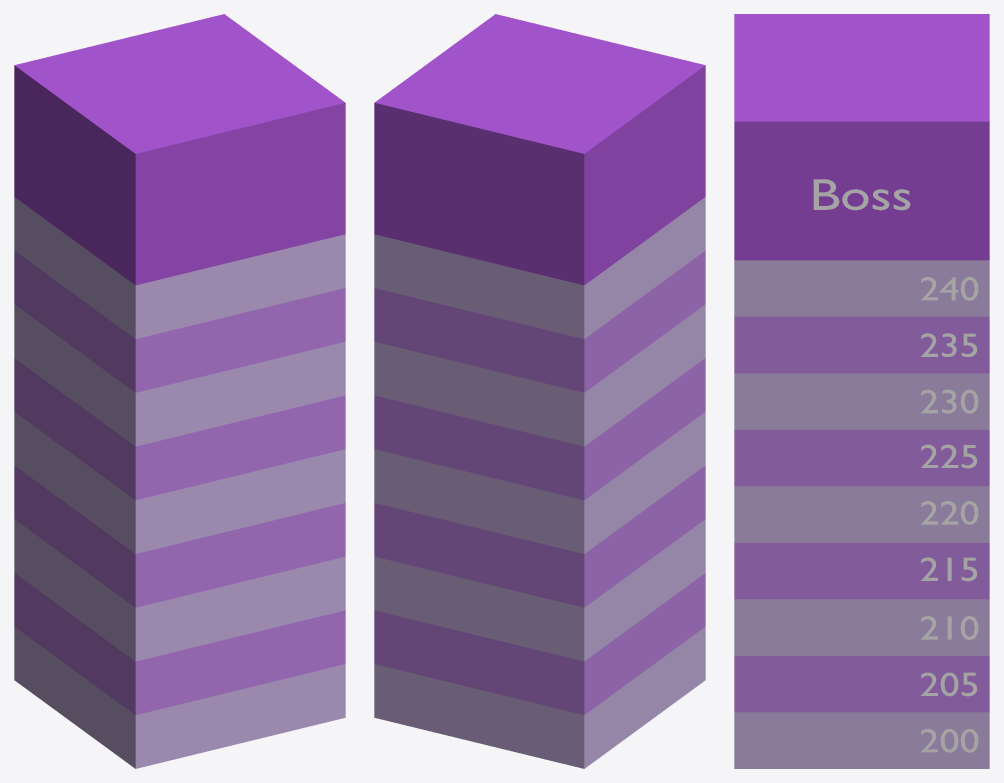
Rendered from boss_block.fbx.
3 renders of one model, left to right at view 1: azimuth 30°, elevation 25°; view 2: azimuth 150°, elevation 25°; view 3: azimuth 270°, elevation 25°, orthographic. The views are drawn at different scales.
Visible parts, largest first — view 1: Cube.049, Cube.048, Cube.047, Cube.042, Cube.041, Cube.040, Cube.046, Cube.045, Cube.043, Cube.044; view 2: Cube.049, Cube.048, Cube.047, Cube.042, Cube.041, Cube.040, Cube.046, Cube.045, Cube.043, Cube.044; view 3: Cube.049, Cube.047, Cube.045, Cube.043, Cube.042, Cube.048, Cube.044, Cube.046, Cube.041, Cube.040, Text.040, Text.041 (+8 smaller).
Part boxes in pixels (<box>): Cube.049: <box>14,14,345,285</box>; Cube.048: <box>14,197,345,338</box>; Cube.047: <box>14,250,345,392</box>; Cube.042: <box>14,519,345,661</box>; Cube.041: <box>14,573,345,715</box>; Cube.040: <box>14,627,345,768</box>; Cube.046: <box>14,304,345,446</box>; Cube.045: <box>14,358,345,500</box>; Cube.043: <box>14,465,345,607</box>; Cube.044: <box>14,412,345,553</box>; Cube.049: <box>374,14,705,285</box>; Cube.048: <box>374,197,705,338</box>; Cube.047: <box>374,250,705,392</box>; Cube.042: <box>374,519,705,661</box>; Cube.041: <box>374,573,705,715</box>; Cube.040: <box>374,627,705,768</box>; Cube.046: <box>374,304,705,446</box>; Cube.045: <box>374,358,705,500</box>; Cube.043: <box>374,465,705,607</box>; Cube.044: <box>374,412,705,553</box>; Cube.049: <box>734,14,989,260</box>; Cube.047: <box>734,316,989,373</box>; Cube.045: <box>734,429,989,486</box>; Cube.043: <box>734,543,989,599</box>; Cube.042: <box>734,599,989,655</box>; Cube.048: <box>734,260,989,316</box>; Cube.044: <box>734,486,989,542</box>; Cube.046: <box>734,373,989,429</box>; Cube.041: <box>734,656,989,712</box>; Cube.040: <box>734,712,989,768</box>; Text.040: <box>813,179,910,210</box>; Text.041: <box>921,729,978,752</box>.
Bounding box in the file's own units: 200 × 560 × 200.
